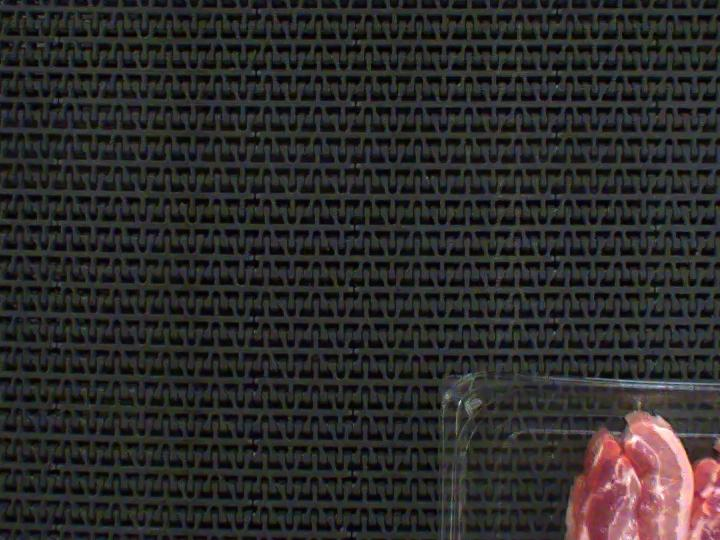packaging-error: (621, 392, 651, 417)
